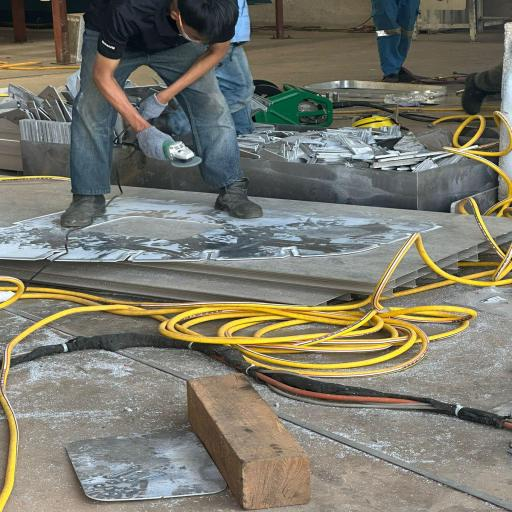safety_shoe: (212, 173, 265, 218), (55, 185, 109, 227), (387, 67, 427, 87)
